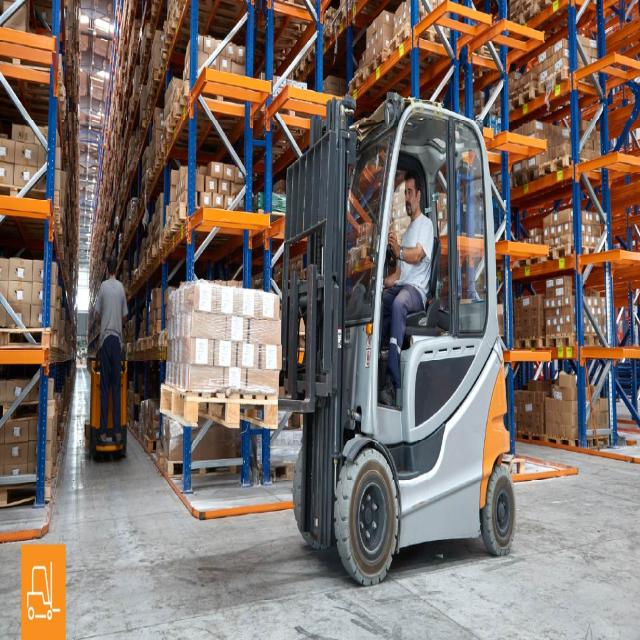Person: (380, 173, 435, 407), (95, 252, 128, 448)
